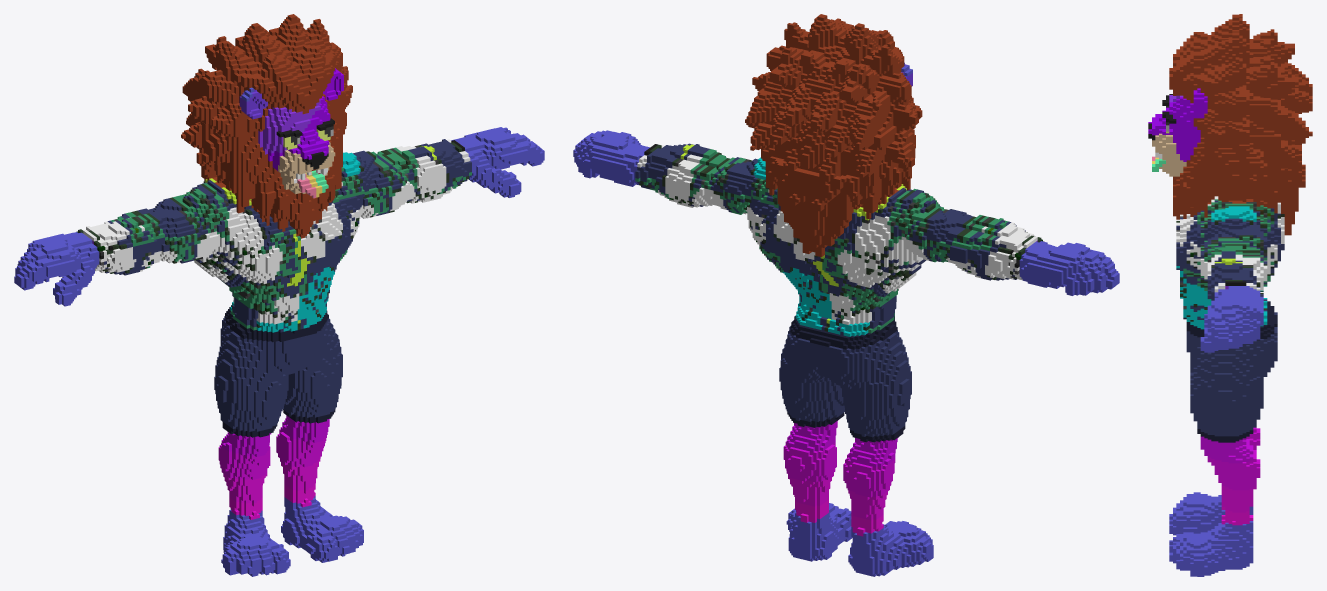
The model's file is 516-9CcMD3Ju.fbx.
3 views of the same model, side by side, from view 1: azimuth 30°, elevation 25°; view 2: azimuth 150°, elevation 25°; view 3: azimuth 270°, elevation 25° (orthographic). The views are drawn at different scales.
Visible parts, largest first — view 1: rainbow_puke; view 2: rainbow_puke; view 3: rainbow_puke.
Boxes of the visible parts, bbox=[...] form: rainbow_puke: bbox=[14, 14, 544, 576]; rainbow_puke: bbox=[573, 14, 1119, 576]; rainbow_puke: bbox=[1148, 14, 1312, 576].
Bounding box in the file's own units: 17.2 × 16.5 × 4.7.
5 materials, 5 textured.
